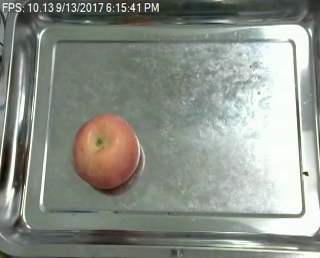Apple: (70, 114, 141, 190)
